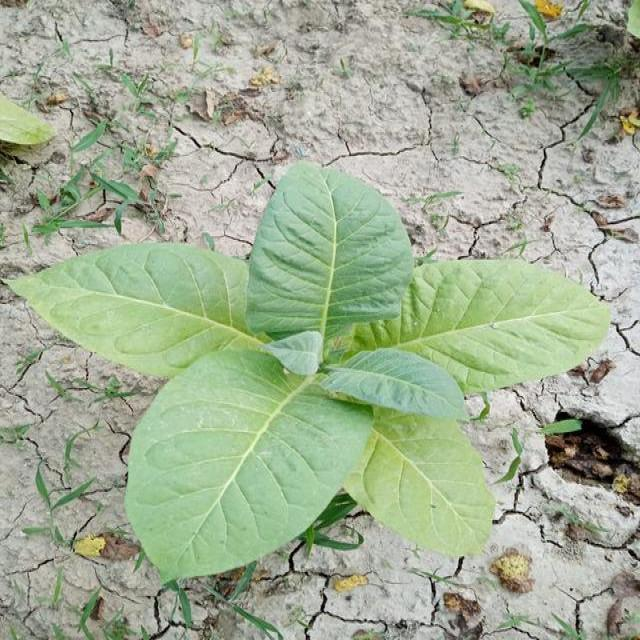crop: (0, 164, 609, 573)
